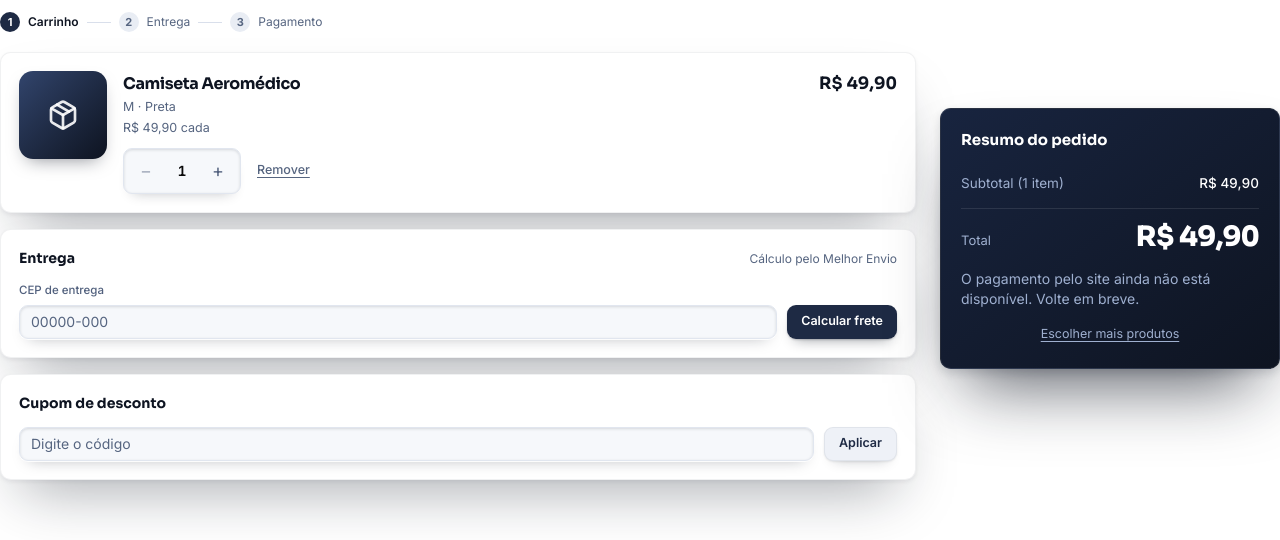
Test: CartView › '+' grava a nova quantidade e precifica de novo
expect the link "Camiseta Aeromédico" is shown: met, box [123,73,300,94]
Click the button named "Aumentar quantidade de Camiseta Aeromédico, M, Preta" at x=218, y=170, box [196,148,240,192]
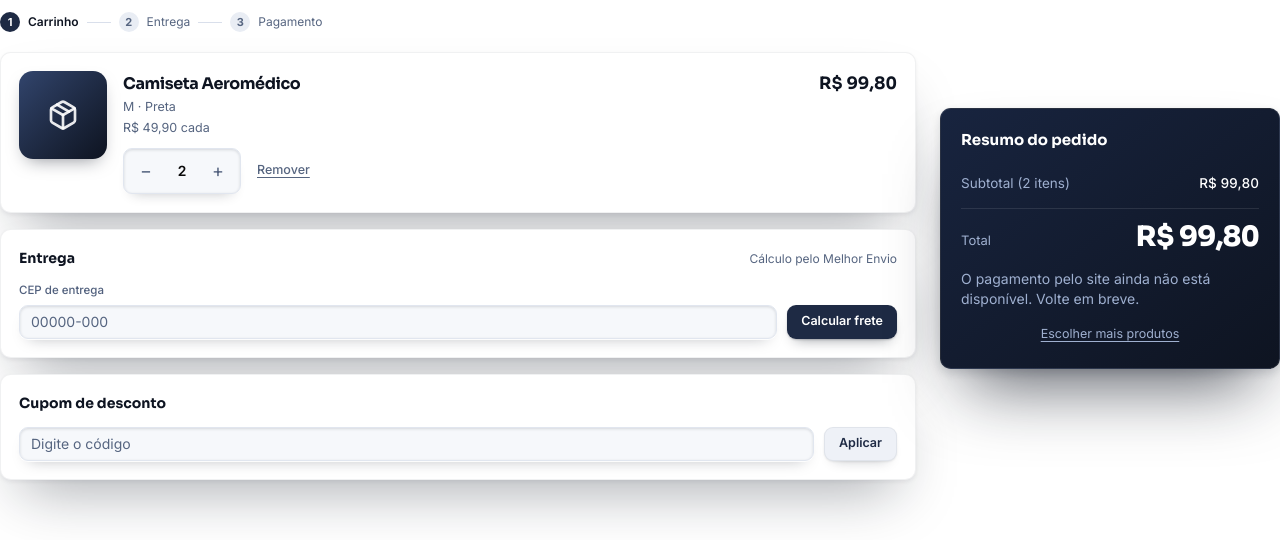
expect the text with test id "cart-subtotal" reads "R$ 99,80": met, box [1199,174,1259,190]
